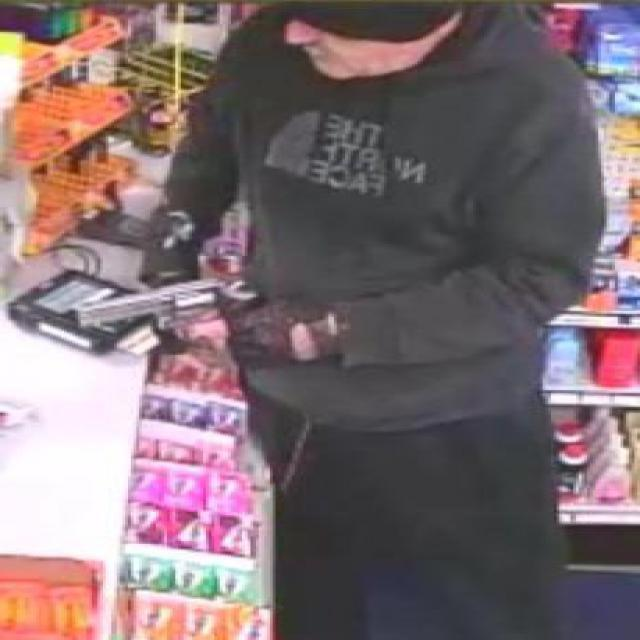weapon: (77, 276, 260, 354)
